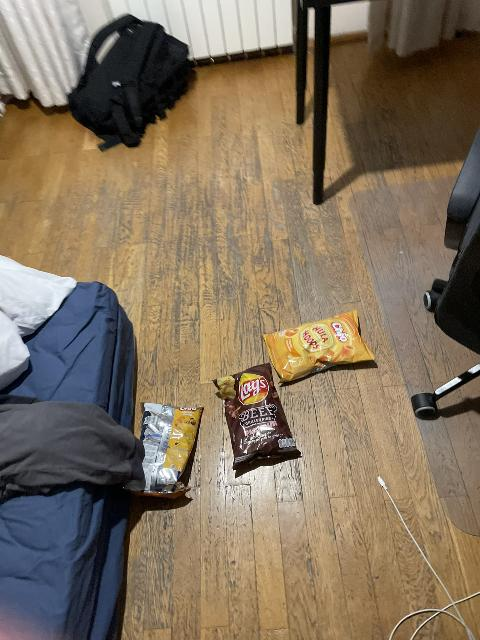Chio Cascaval 125g: (133, 399, 204, 497)
Chio Hula Hoops Cheese 70g: (265, 311, 373, 380)
Lays Beef Grilled Ribs 125g: (212, 364, 300, 471)
